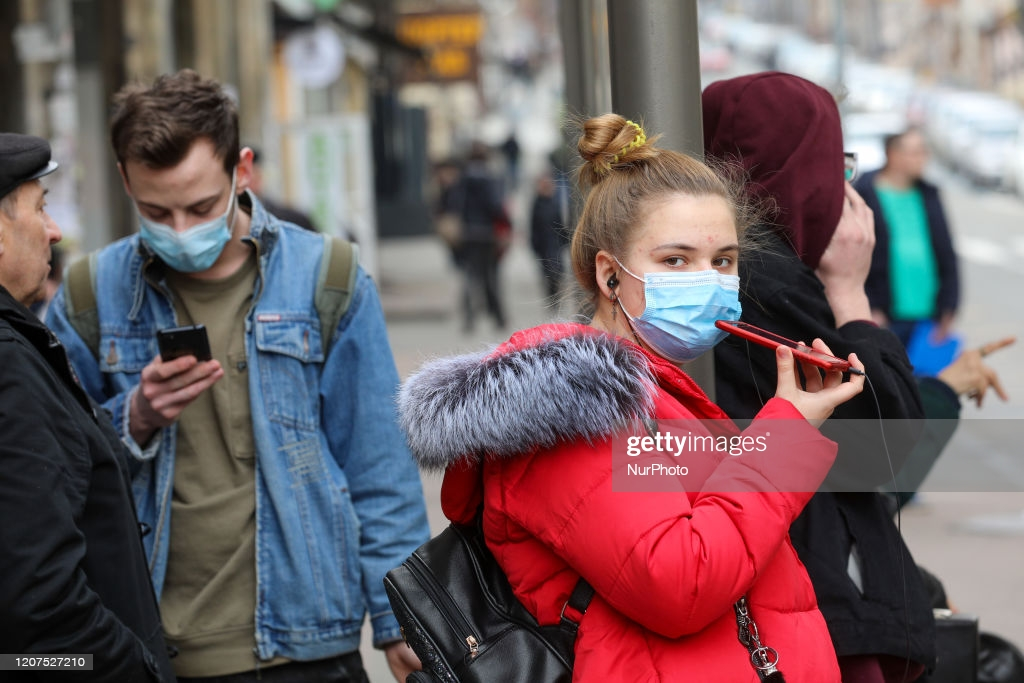with_mask: (631, 211, 744, 367), (135, 170, 237, 272)
without_mask: (1, 192, 60, 312)
